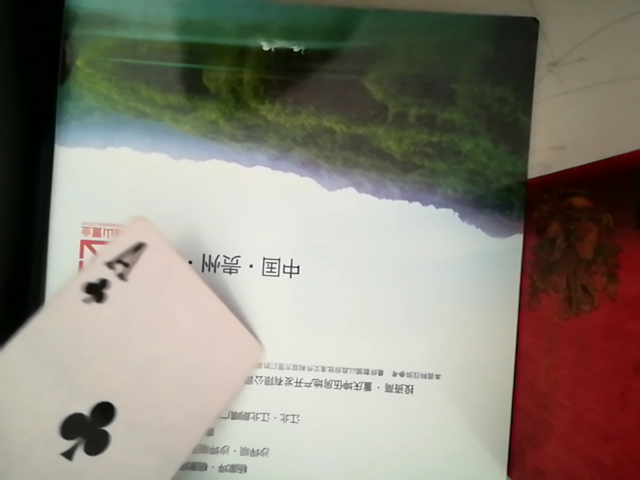mh a: (0, 197, 262, 480)
